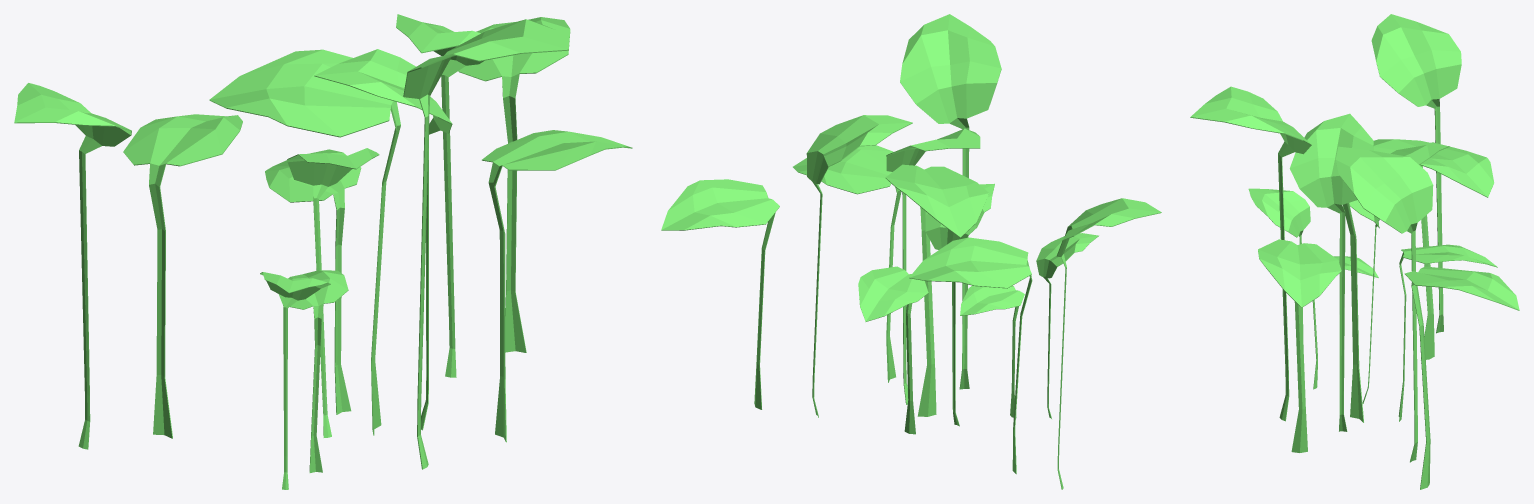
File: st3_plant2.fbx
3 views of the same model, side by side, from view 1: azimuth 30°, elevation 25°; view 2: azimuth 150°, elevation 25°; view 3: azimuth 270°, elevation 25° (orthographic). The views are drawn at different scales.
Visible parts, largest first — view 1: stage3_map_object_leaves_6_large_; view 2: stage3_map_object_leaves_6_large_; view 3: stage3_map_object_leaves_6_large_.
Boxes of the visible parts, x1,y1,x2,y2 form: stage3_map_object_leaves_6_large_: (14, 14, 632, 489); stage3_map_object_leaves_6_large_: (661, 14, 1161, 489); stage3_map_object_leaves_6_large_: (1190, 14, 1519, 489).
Bounding box in the file's own units: 2614 × 1862 × 1661.
